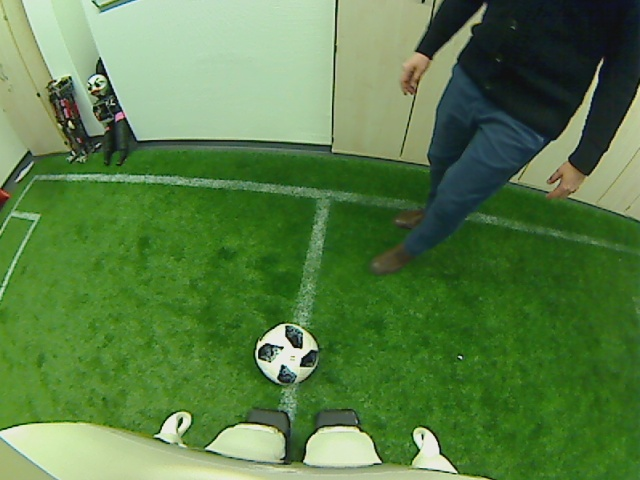ball: (252, 321, 322, 388)
